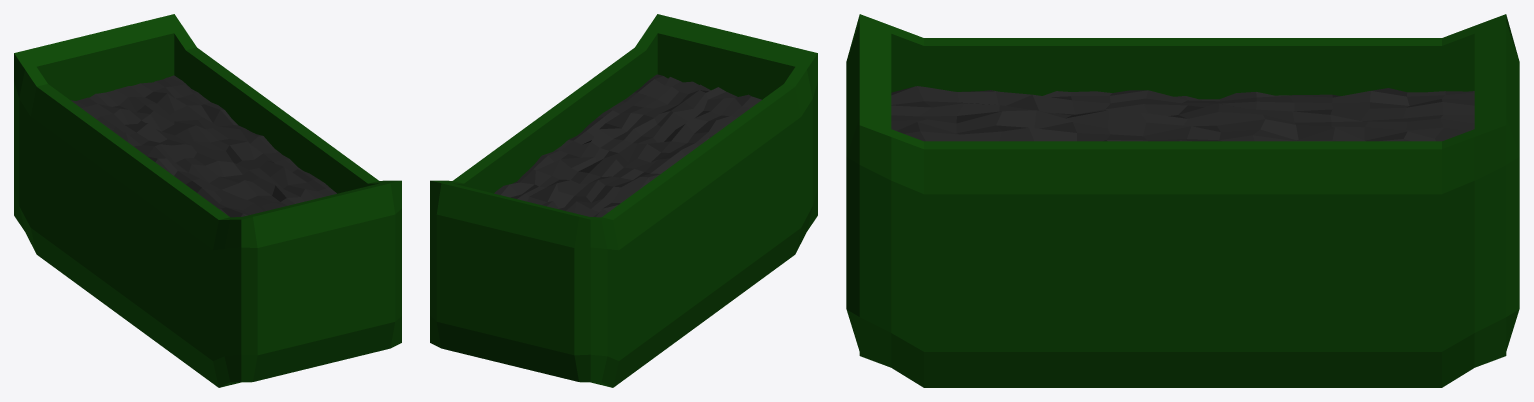
The model's file is TrashDump.fbx.
3 renders of one model, left to right at view 1: azimuth 30°, elevation 25°; view 2: azimuth 150°, elevation 25°; view 3: azimuth 270°, elevation 25°, orthographic. The views are drawn at different scales.
Parts seen in each view (by area): view 1: TrashDump, GarbageLarge; view 2: TrashDump, GarbageLarge; view 3: TrashDump, GarbageLarge.
Boxes of the visible parts, bbox=[...] form: TrashDump: bbox=[14, 14, 401, 387]; GarbageLarge: bbox=[71, 75, 336, 217]; TrashDump: bbox=[430, 14, 817, 387]; GarbageLarge: bbox=[494, 74, 761, 217]; TrashDump: bbox=[846, 14, 1519, 387]; GarbageLarge: bbox=[891, 86, 1474, 141].
Bounding box in the file's own units: 2.15 × 5.11 × 2.2.
